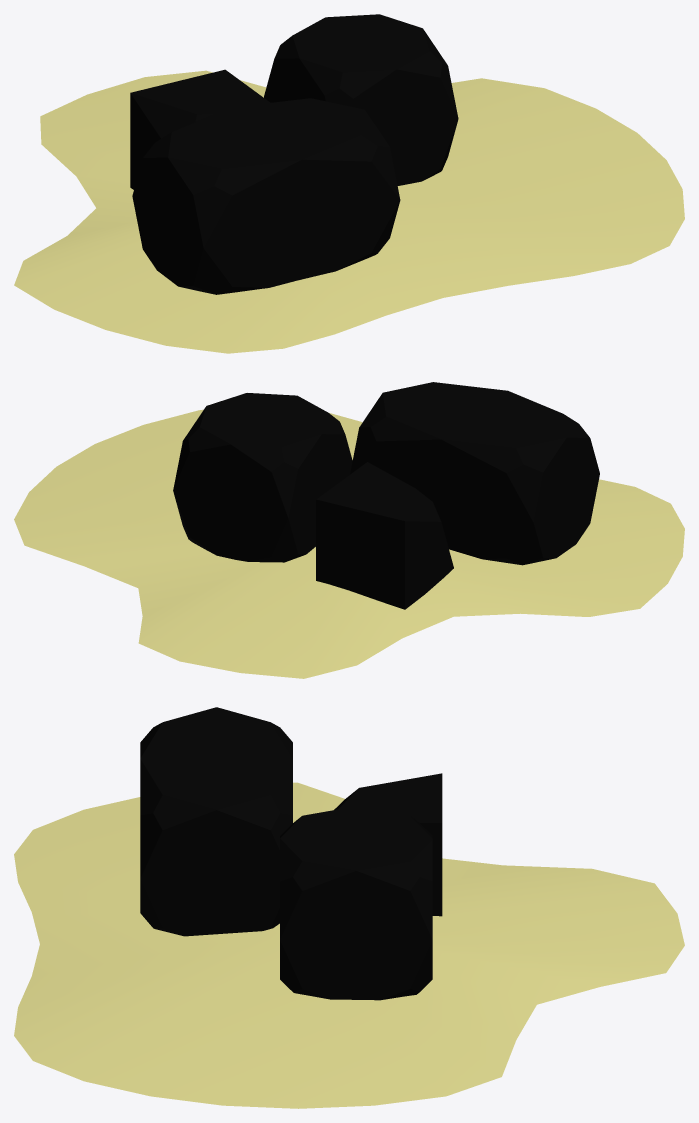
The model's file is PanFood.fbx.
3 renders of one model, top to bottom at view 1: azimuth 30°, elevation 25°; view 2: azimuth 150°, elevation 25°; view 3: azimuth 270°, elevation 25°, orthographic. The views are drawn at different scales.
Parts seen in each view (by area): view 1: Circle.004, Cube.012, Cube.009, Cube.013; view 2: Circle.004, Cube.012, Cube.009, Cube.013; view 3: Circle.004, Cube.012, Cube.009, Cube.013.
Boxes of the visible parts, x1,y1,x2,y2 form: Circle.004: [14, 70, 684, 353]; Cube.012: [132, 98, 400, 294]; Cube.009: [264, 14, 458, 185]; Cube.013: [130, 69, 270, 189]; Circle.004: [14, 409, 684, 678]; Cube.012: [350, 382, 599, 565]; Cube.009: [173, 393, 352, 562]; Cube.013: [316, 462, 453, 609]; Circle.004: [14, 782, 684, 1108]; Cube.012: [140, 707, 292, 936]; Cube.009: [280, 806, 432, 1000]; Cube.013: [334, 773, 442, 916].
Size of the model in its own units: 20.49 by 4.16 by 17.81.
